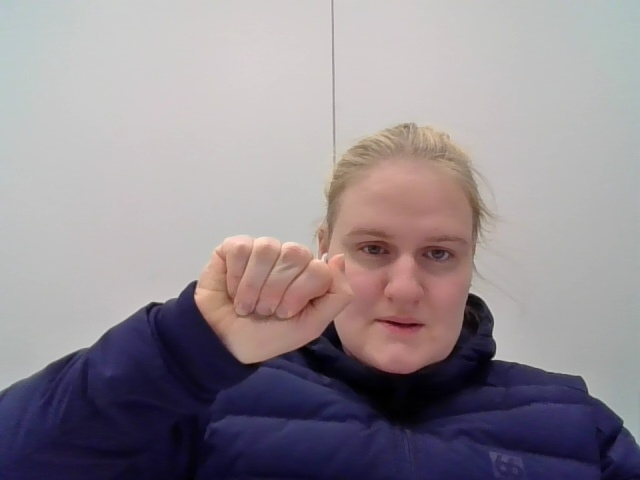down: (190, 230, 358, 374)
